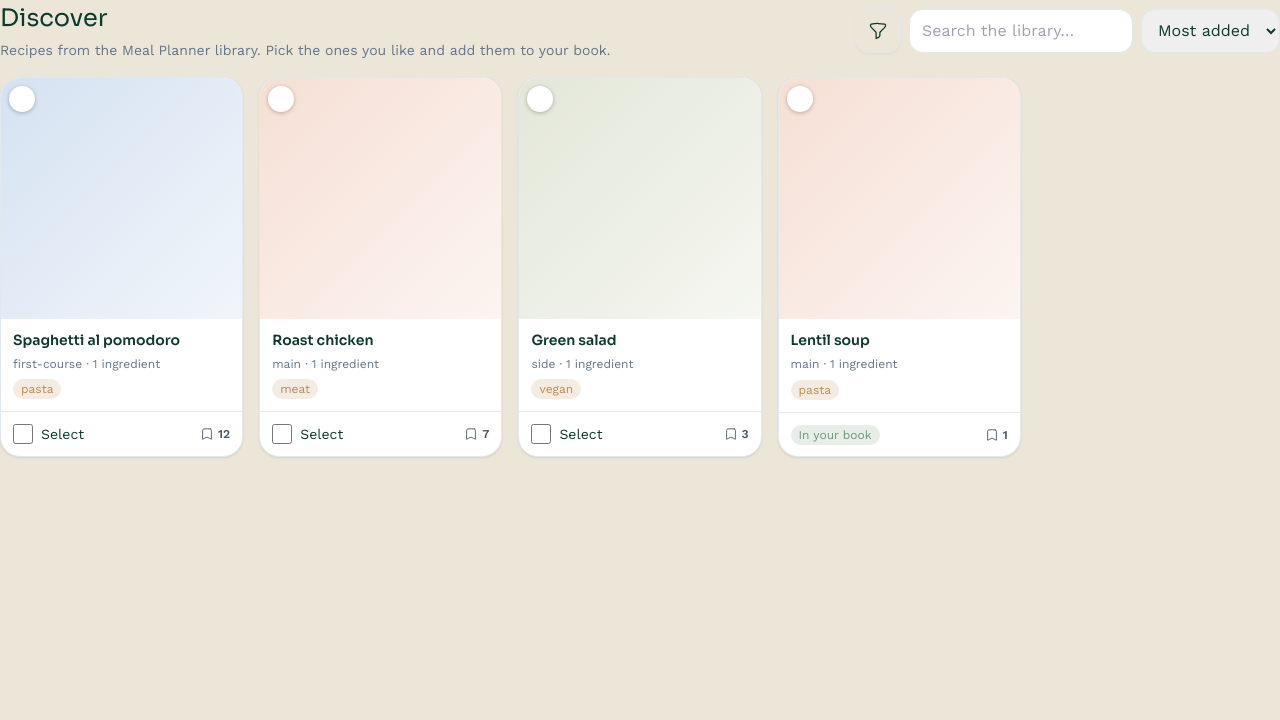
on mobile the filters open in a bottom sheet
The width and height of the screenshot is (1280, 720).
Expected: the text "Spaghetti al pomodoro" is shown, top-left (13, 331), bottom-right (180, 349)
Click the button named "Filter" at (878, 30), box top-left (855, 8), bottom-right (901, 52)
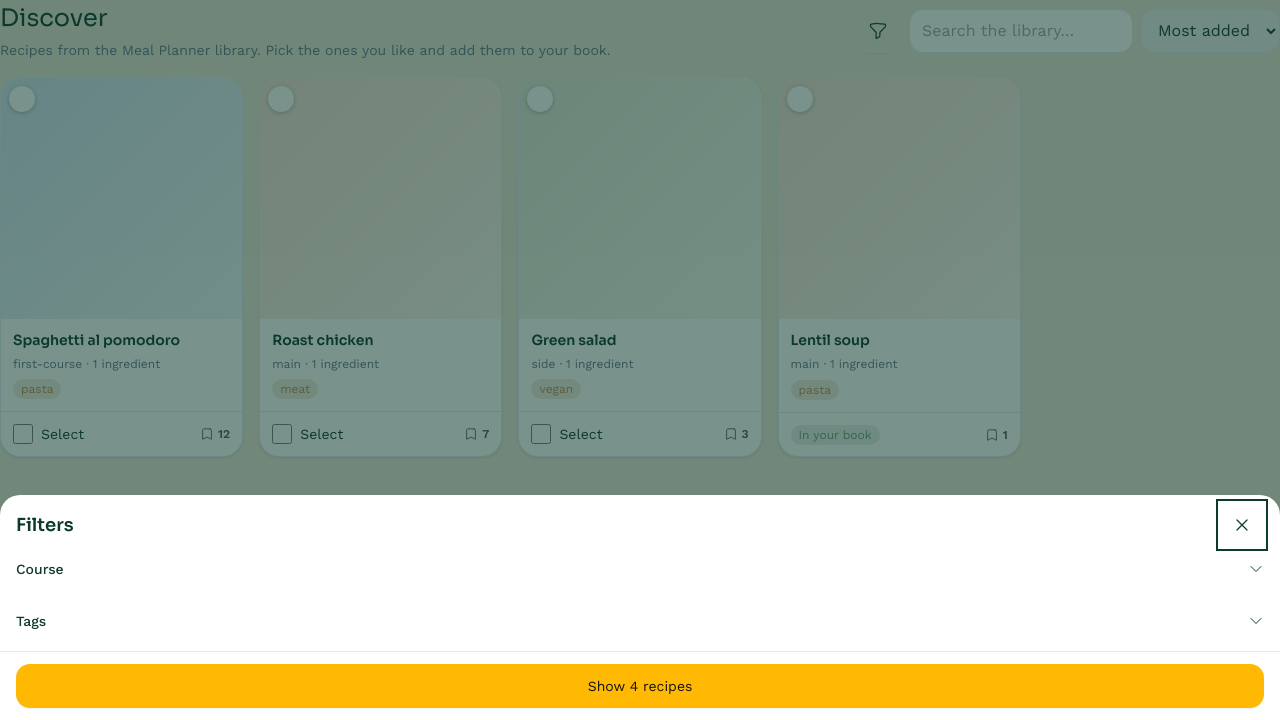
Expected: the button "Course" is shown, top-left (16, 547), bottom-right (1264, 591)
